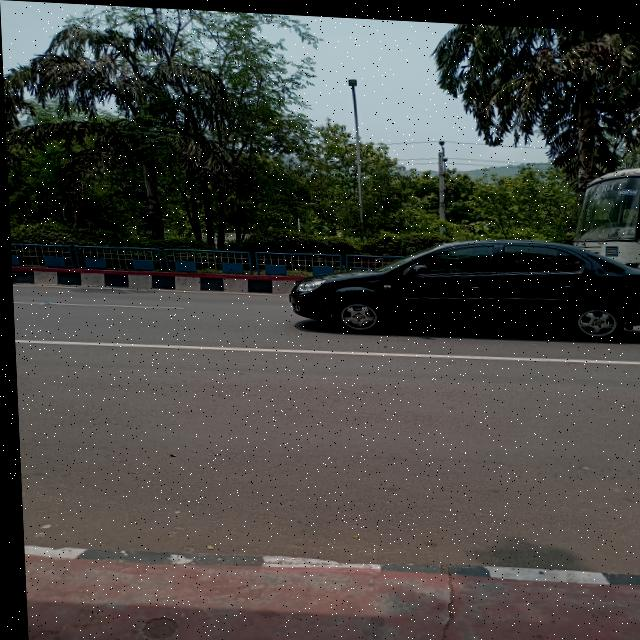bus: (570, 151, 640, 263)
car: (276, 218, 640, 343)
